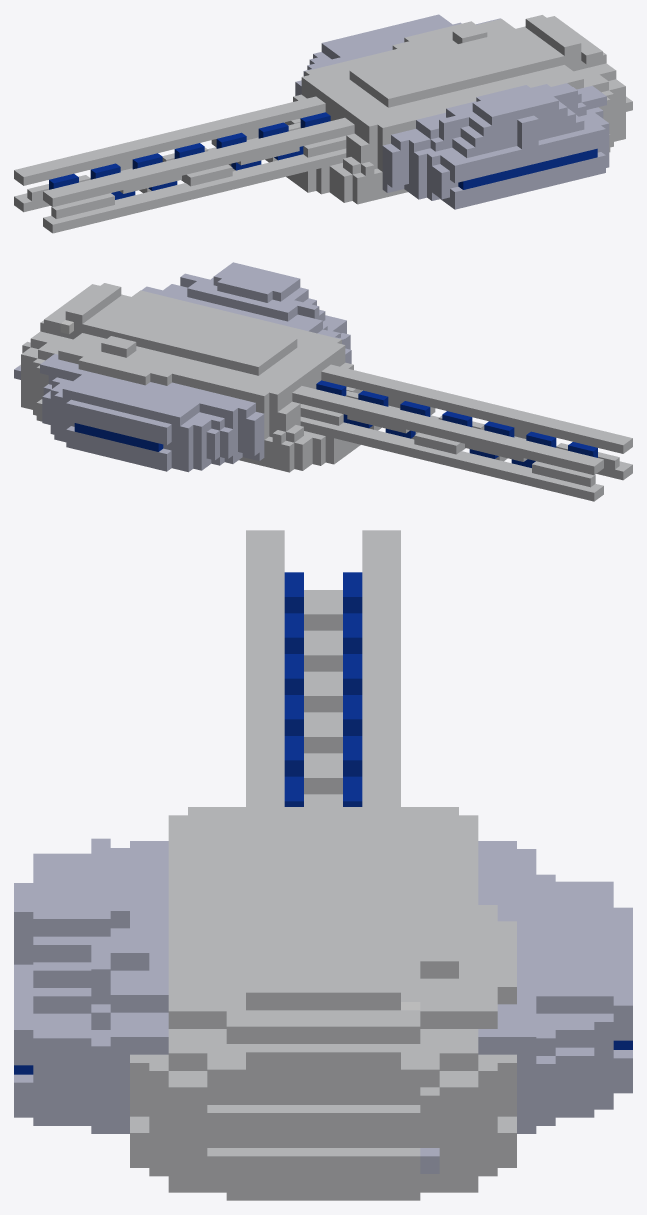
Rendered from infinity_enemy_tank_1-0.obj.
3 views of the same model, one above another, from view 1: azimuth 30°, elevation 25°; view 2: azimuth 150°, elevation 25°; view 3: azimuth 270°, elevation 25° (orthographic). The views are drawn at different scales.
Bounding box in the file's own units: 6.8 × 1 × 3.2.
